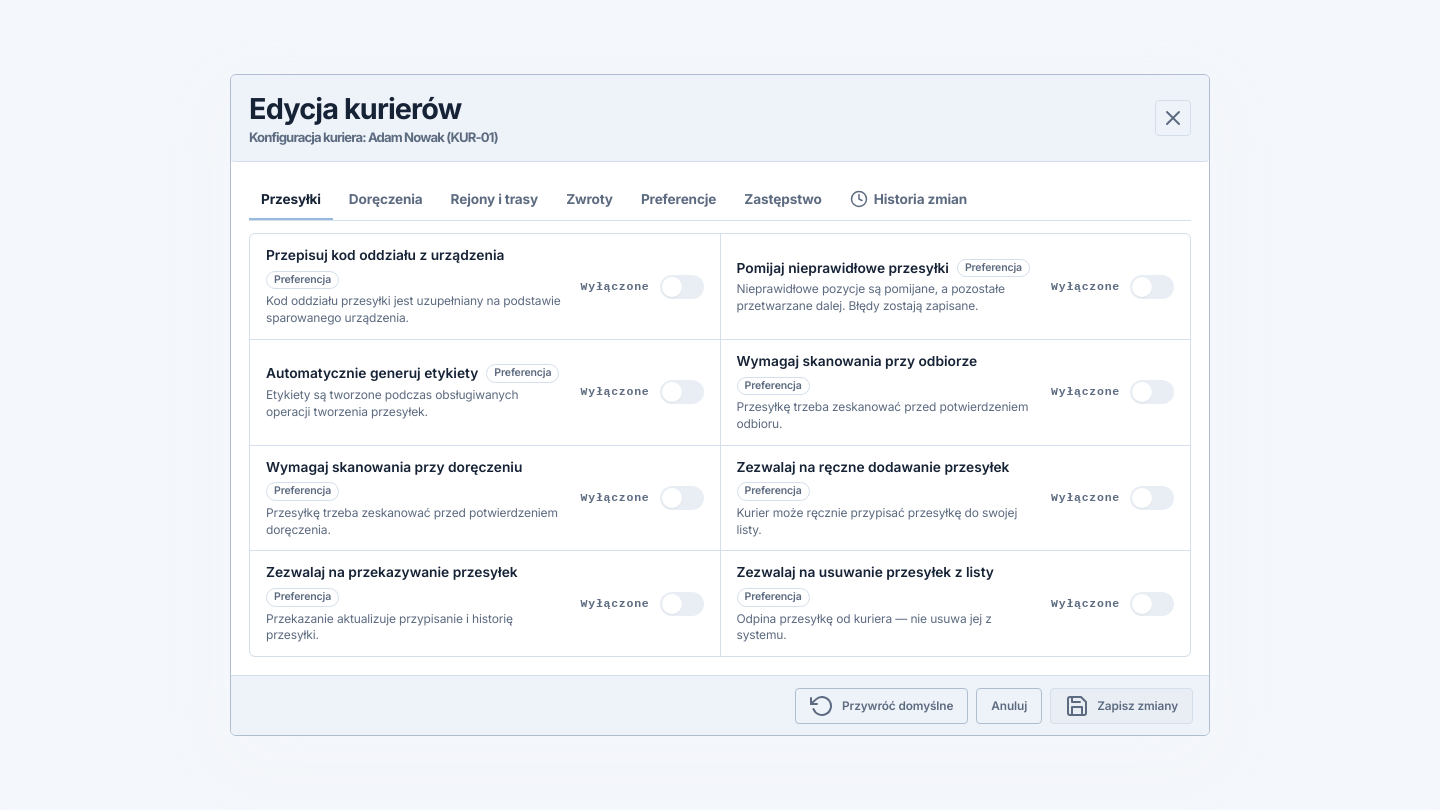
Test: CourierConfigurationDialog › saves changed settings with the loaded version
The image size is (1440, 810).
Click the checkbox named "Zezwalaj na przekazywanie przesyłek": [642, 604] box [581,592,704,616]
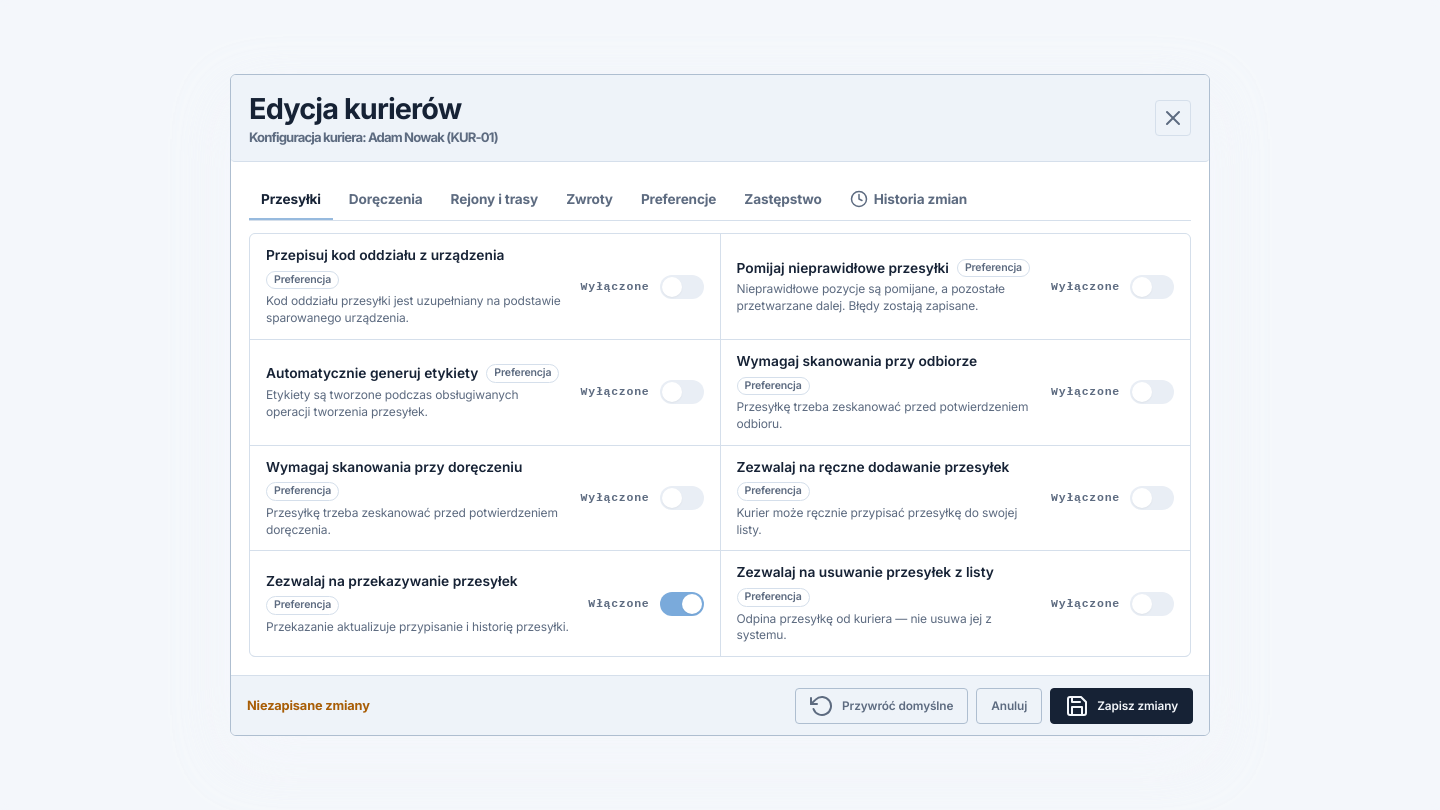
Click the button "Zapisz zmiany": [1122, 706] box [1050,688,1193,724]
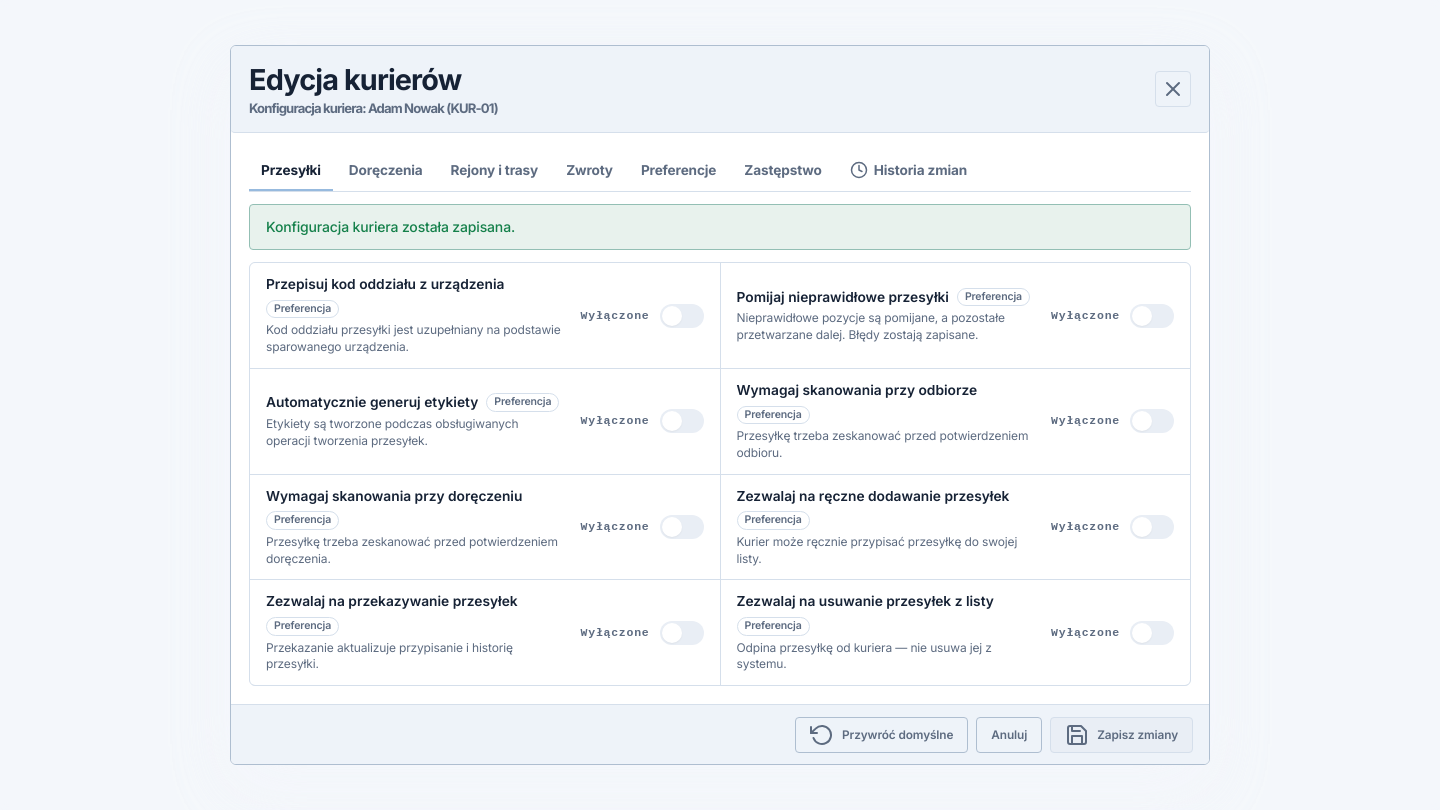
expect the text "Konfiguracja kuriera została zapisana." is shown: met, box [266,218,515,235]
